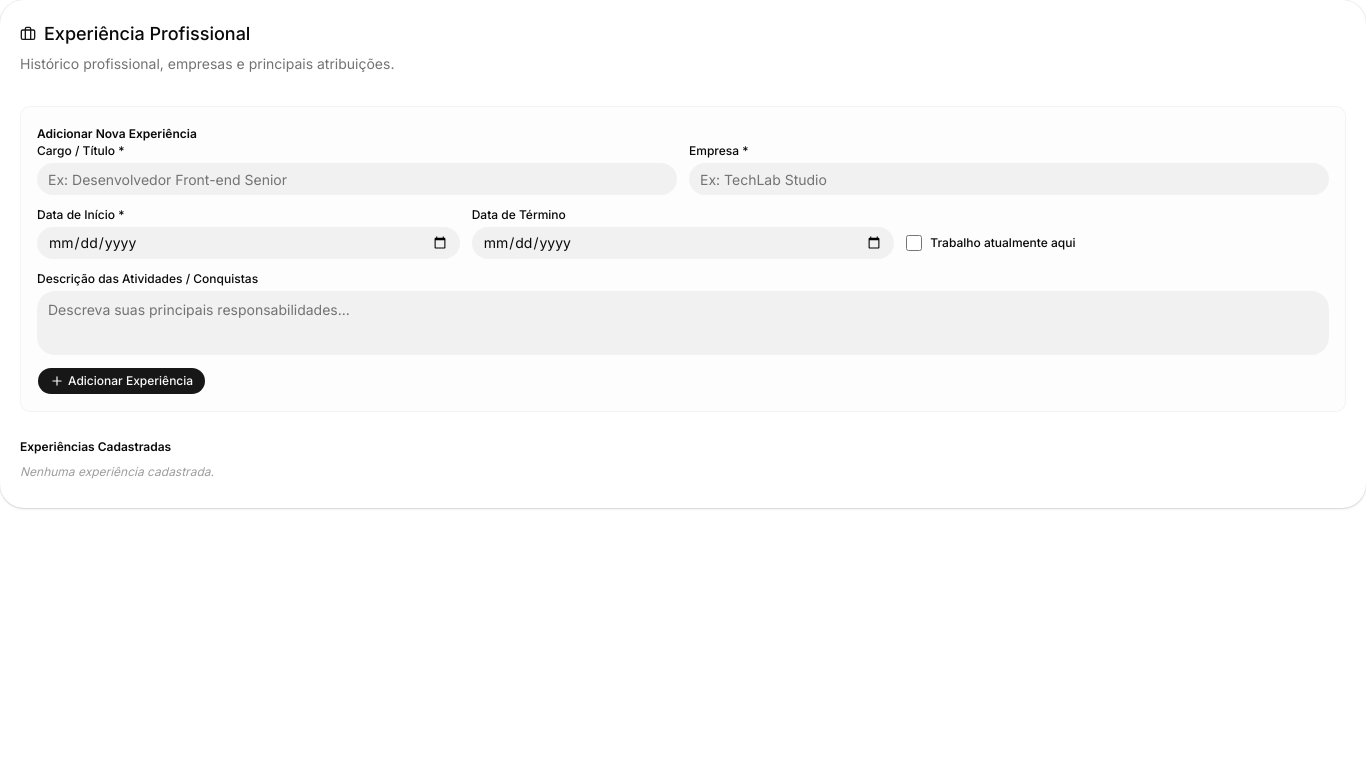
Scenario: CandidateExperiencesSection Component › displays validation errors on empty submission
The image size is (1366, 768).
Click the button "Adicionar Experiência" at (122, 381), box [37,367,206,395]
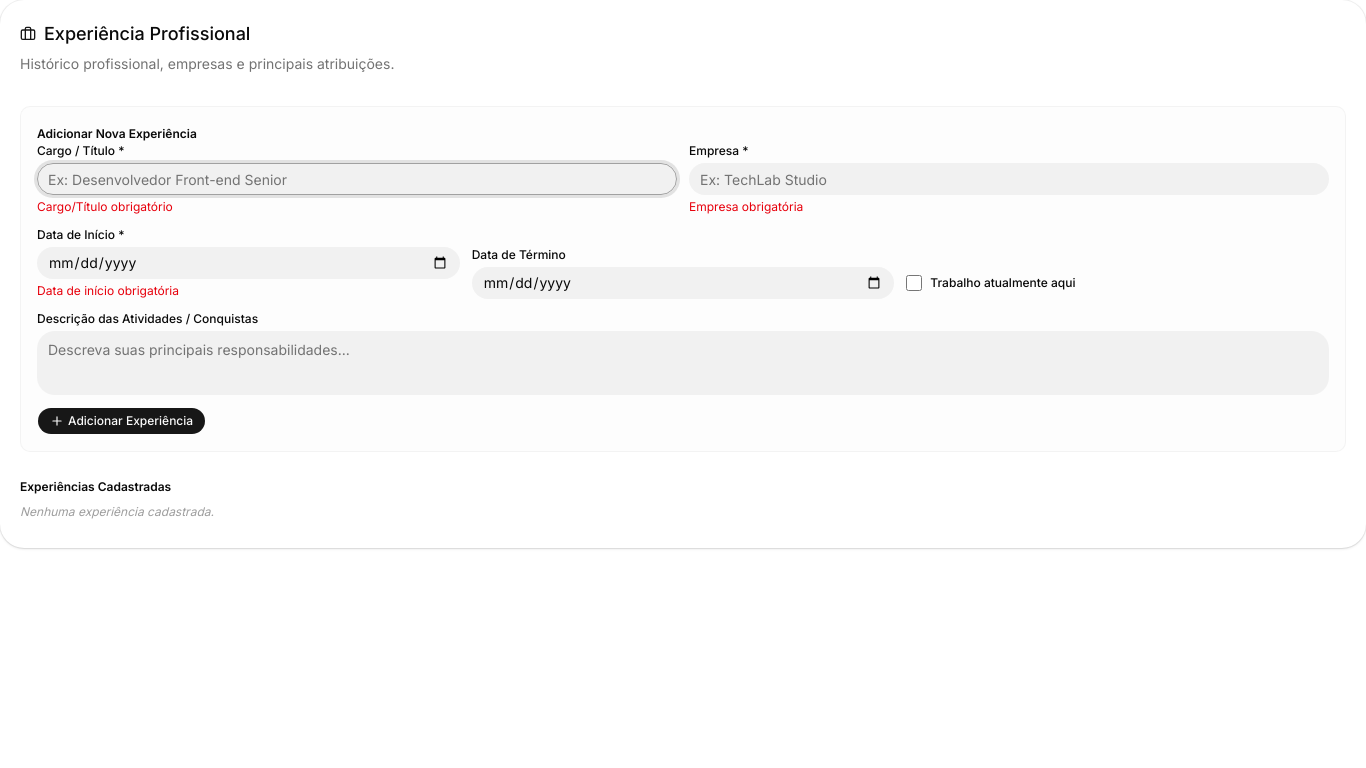
Check: the text "Cargo/Título obrigatório" is shown, box [37,199,173,214]
Check: the text "Empresa obrigatória" is shown, box [689,199,803,214]
Check: the text "Data de início obrigatória" is shown, box [37,283,179,298]
